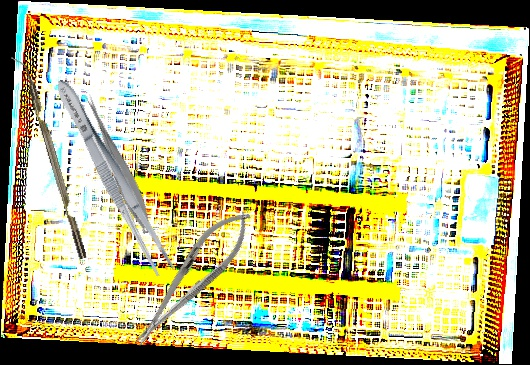Chopper: (10, 52, 88, 263)
Dressing Forceps: (47, 74, 179, 280)
Micro Scissor: (76, 91, 158, 237)
Needle Holder: (121, 198, 263, 357)
